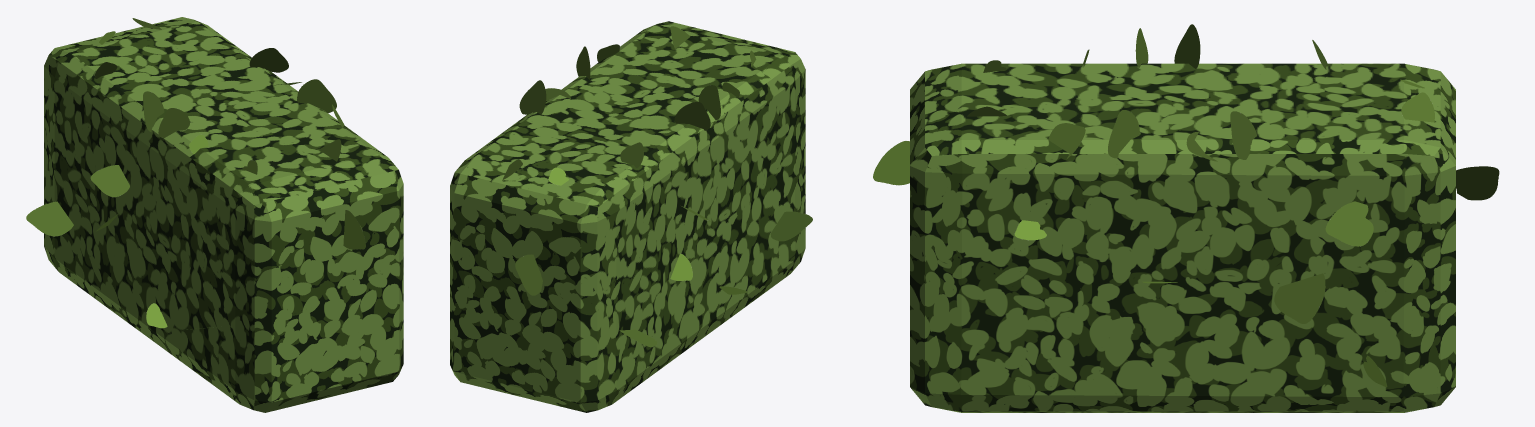
File: hedge.fbx
3 renders of one model, left to right at view 1: azimuth 30°, elevation 25°; view 2: azimuth 150°, elevation 25°; view 3: azimuth 270°, elevation 25°, orthographic. The views are drawn at different scales.
Parts seen in each view (by area): view 1: Plane.013; view 2: Plane.013; view 3: Plane.013.
Part boxes in pixels (x1,y1,x2,y2): Plane.013: (26,17,403,412); Plane.013: (450,21,812,412); Plane.013: (873,24,1499,412).
Bounding box in the file's own units: 55.31 × 57.14 × 108.
